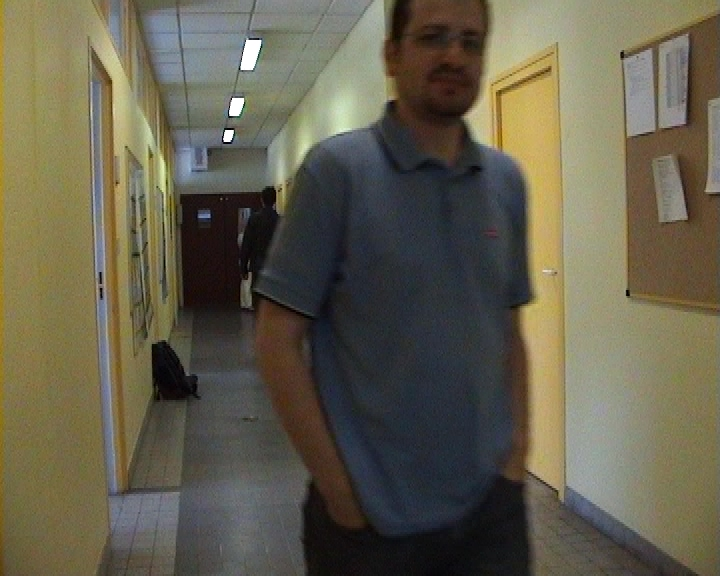leave bag unattended: (133, 322, 231, 456)
